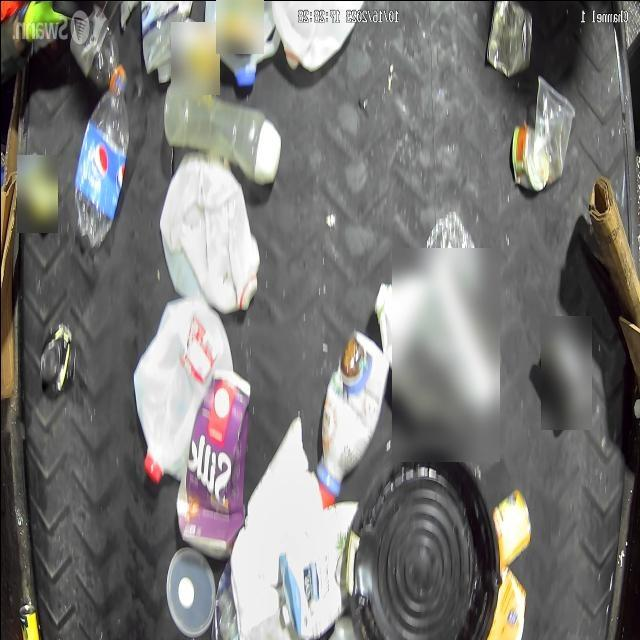milk_jug: (126, 298, 238, 487), (158, 152, 262, 312)
plastic_bottle: (72, 61, 128, 249)
